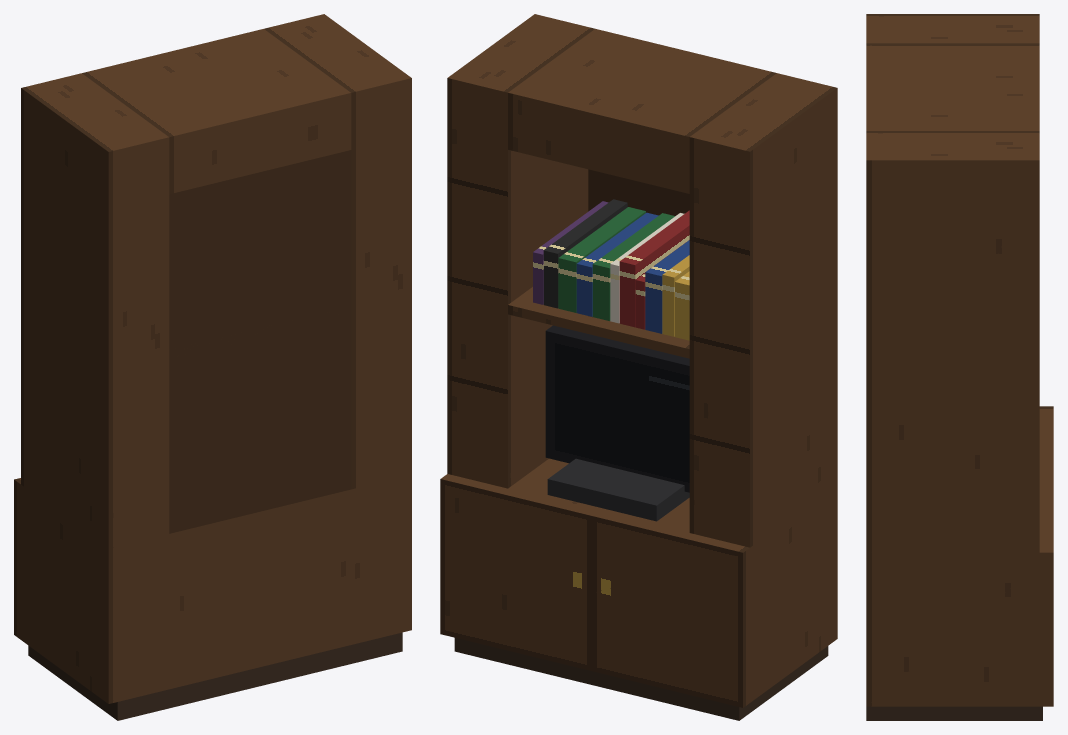
File: f_entertainment_center.glb
3 views of the same model, side by side, from view 1: azimuth 30°, elevation 25°; view 2: azimuth 150°, elevation 25°; view 3: azimuth 270°, elevation 25° (orthographic).
Visible parts, largest first — view 1: block_tower-0.5, block_back, block_base, block_tower0.3, block_bridge, block_base-plinth; view 2: block_base, block_tower-0.5, block_tower0.3, block_bridge, block_tv, block_player, block_base-plinth, block_shelf, block_media-0.091, block_back, block_media0.104, block_media0.164 (+7 smaller); view 3: block_tower0.3, block_base, block_bridge, block_tower-0.5, block_base-plinth.
Boxes of the visible parts, x1,y1,x2,y2 form: block_tower-0.5: (21, 73, 169, 548); block_back: (169, 150, 351, 533); block_base: (14, 474, 411, 703); block_tower0.3: (264, 14, 411, 489); block_bridge: (82, 29, 351, 194); block_base-plinth: (28, 632, 402, 720); block_base: (440, 458, 837, 707); block_tower-0.5: (689, 73, 837, 547); block_tower0.3: (447, 14, 594, 488); block_bridge: (508, 29, 776, 193); block_tv: (545, 325, 689, 492); block_player: (547, 458, 689, 521); block_base-plinth: (454, 638, 828, 720); block_shelf: (508, 287, 689, 358); block_media-0.091: (619, 210, 689, 327); block_back: (588, 169, 689, 215); block_media0.104: (558, 207, 645, 312); block_media0.164: (543, 199, 627, 308); block_tower0.3: (866, 131, 1039, 552); block_base: (866, 406, 1053, 706); block_bridge: (866, 43, 1039, 130); block_tower-0.5: (866, 14, 1039, 43); block_base-plinth: (866, 706, 1042, 720).
Bounding box in the file's own units: 1 × 1.8 × 0.54.
Materials: 1 (1 with a texture image).
